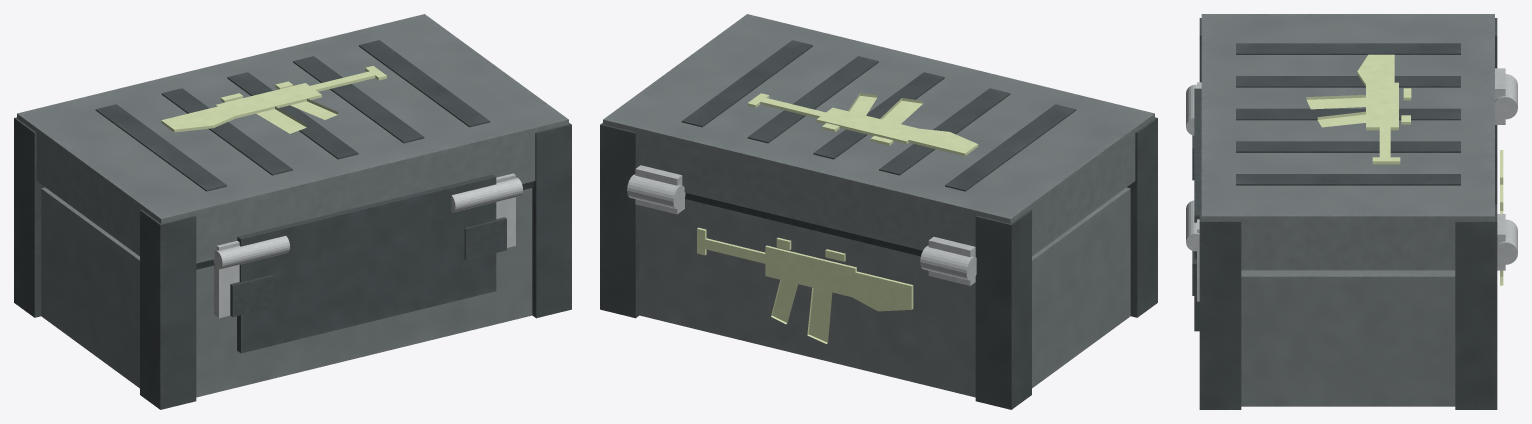
Rendered from 12_ammo_automate.glb.
3 views of the same model, side by side, from view 1: azimuth 30°, elevation 25°; view 2: azimuth 150°, elevation 25°; view 3: azimuth 270°, elevation 25° (orthographic).
Visible parts, largest first — view 1: 12_ammo_automate; view 2: 12_ammo_automate; view 3: 12_ammo_automate.
Part boxes in pixels (<box>): 12_ammo_automate: <box>14,14,571,409</box>; 12_ammo_automate: <box>600,14,1157,409</box>; 12_ammo_automate: <box>1186,14,1517,409</box>.
Bounding box in the file's own units: 1.1 × 0.498 × 0.7525.
6 materials, 6 textured.
